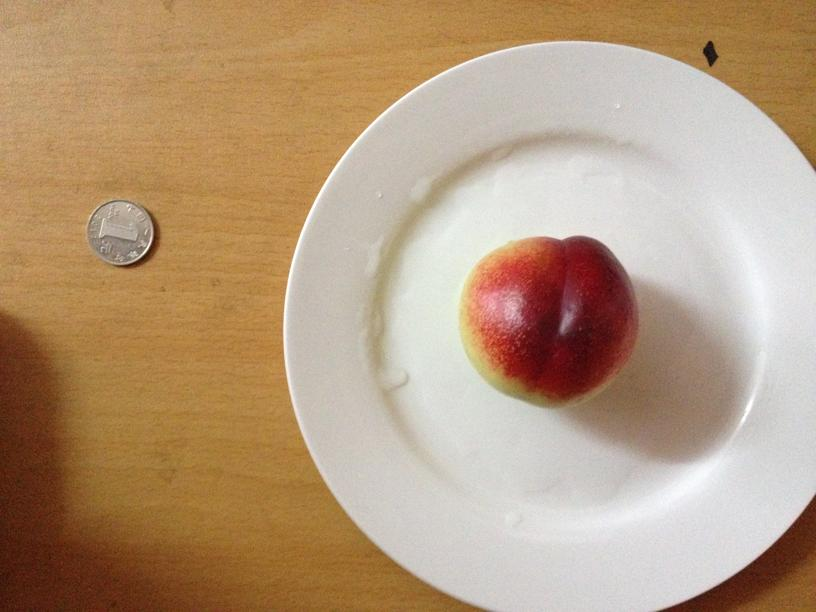coin: (84, 198, 153, 269)
peach: (454, 232, 639, 406)
